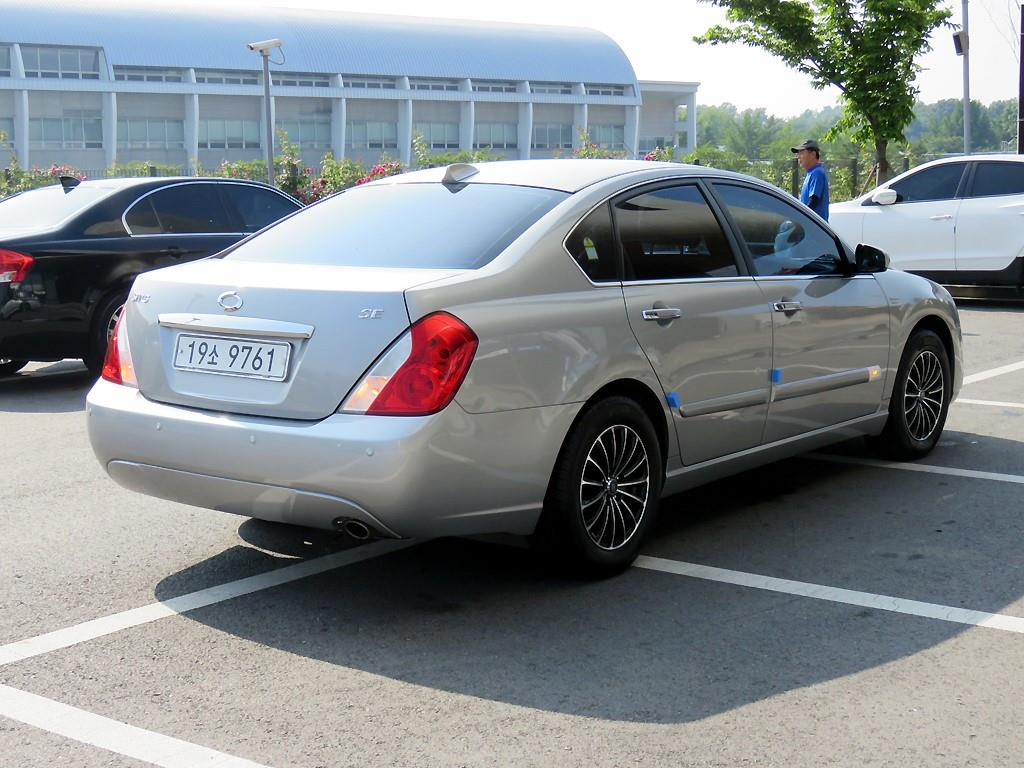plate: (174, 334, 288, 377)
